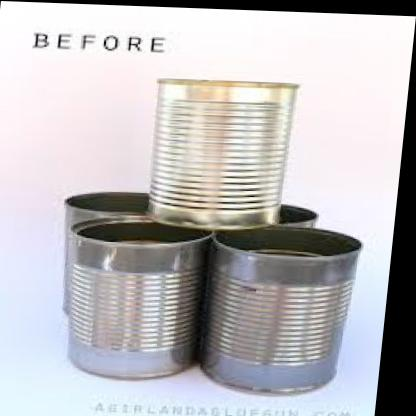Metal: (6, 43, 412, 405)
